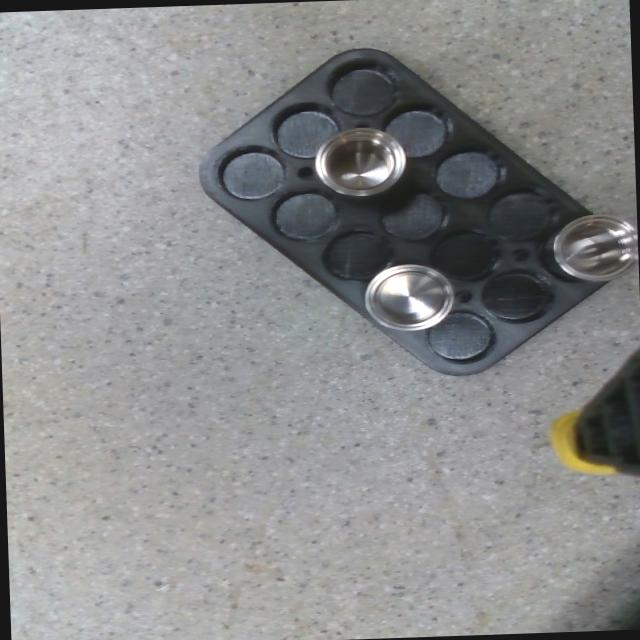sensor: (362, 260, 456, 331), (314, 125, 406, 197), (551, 213, 637, 282)
